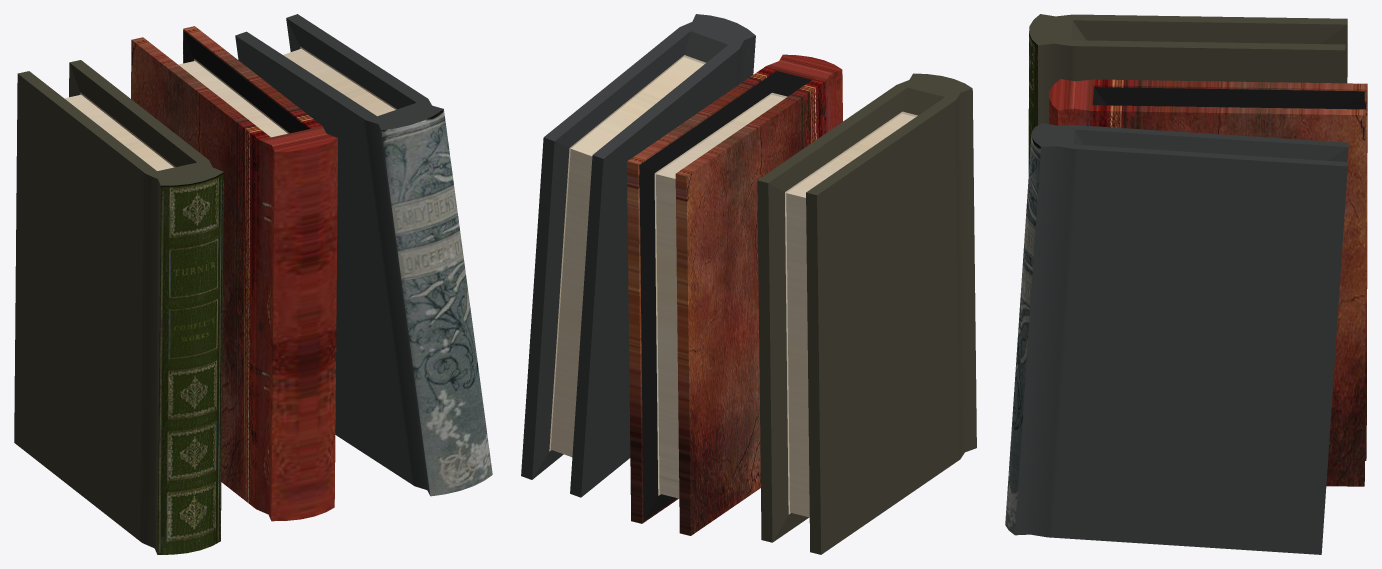
Rendered from books.fbx.
3 renders of one model, left to right at view 1: azimuth 30°, elevation 25°; view 2: azimuth 150°, elevation 25°; view 3: azimuth 270°, elevation 25°, orthographic. The views are drawn at different scales.
Parts seen in each view (by area): view 1: book63, book69, book20; view 2: book63, book20, book69; view 3: book69, book20, book63.
Boxes of the visible parts, x1=… form: book63: x1=14, y1=60, x2=224, y2=554; book69: x1=235, y1=14, x2=492, y2=496; book20: x1=131, y1=26, x2=337, y2=521; book63: x1=757, y1=73, x2=976, y2=554; book20: x1=627, y1=54, x2=842, y2=535; book69: x1=521, y1=14, x2=755, y2=497; book69: x1=1005, y1=123, x2=1348, y2=554; book20: x1=1049, y1=79, x2=1367, y2=486; book63: x1=1028, y1=14, x2=1347, y2=173.
Size of the model in its own units: 1.9 by 2.15 by 1.79.
7 materials, 4 textured.
